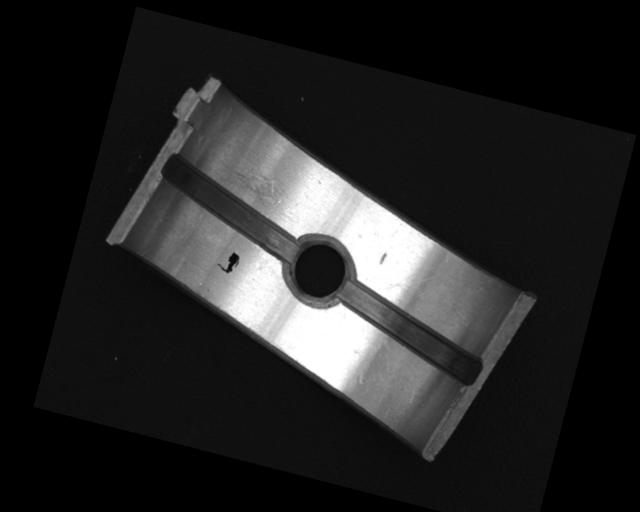blot: (215, 247, 242, 276)
bruise: (378, 251, 388, 266)
gap: (146, 152, 313, 265), (326, 277, 494, 386)
hole: (278, 234, 358, 311)
scratch: (208, 158, 295, 219)
